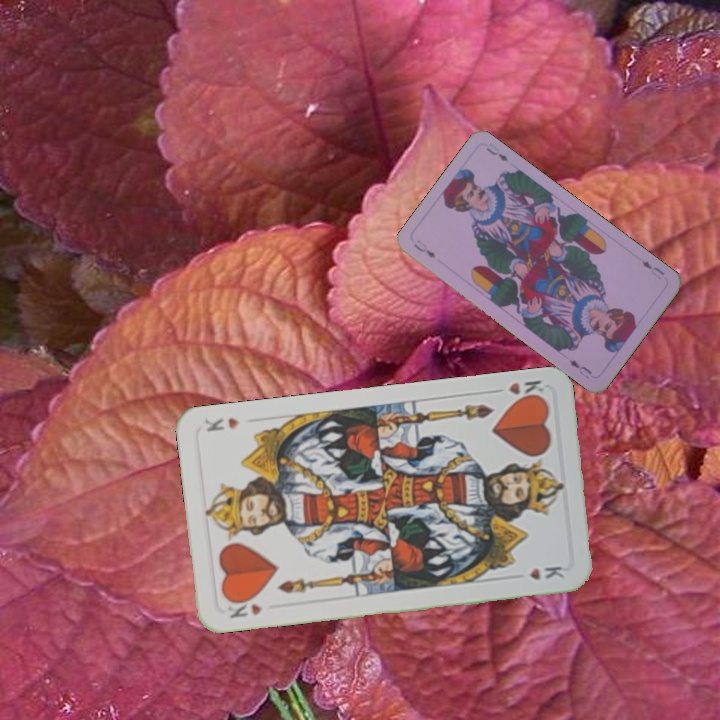EU: (637, 256, 667, 282), (410, 235, 438, 261)
HK: (488, 375, 546, 405), (224, 594, 265, 621)
